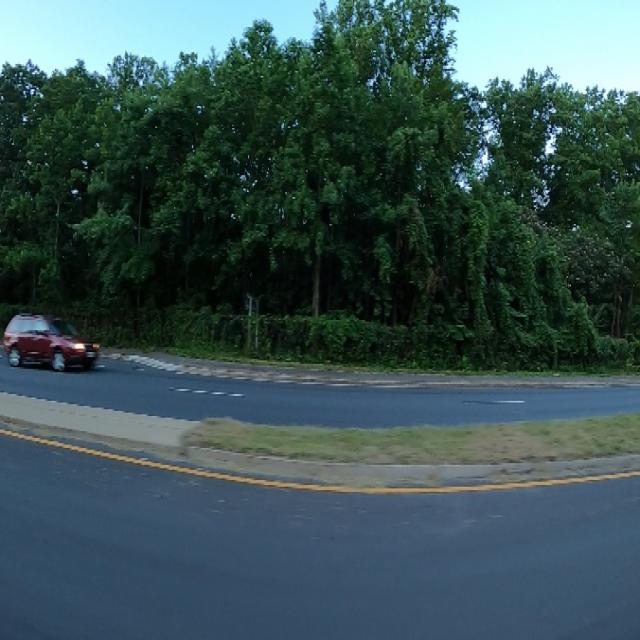cars: (0, 307, 104, 374)
